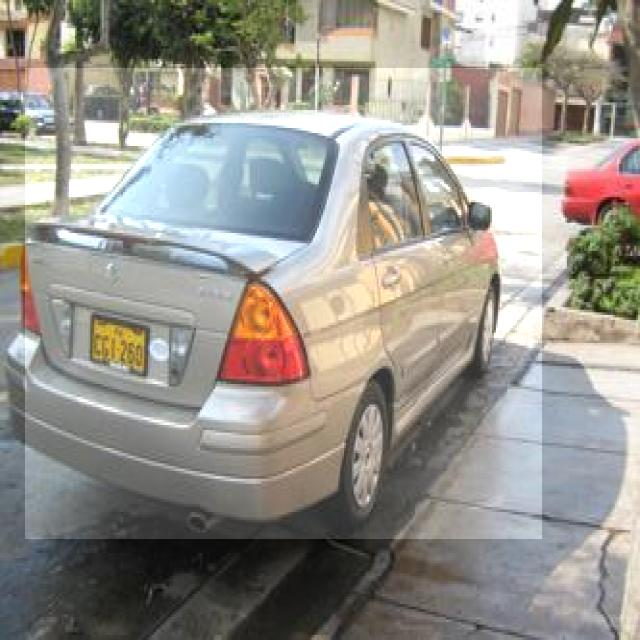Car: (25, 68, 542, 539)
